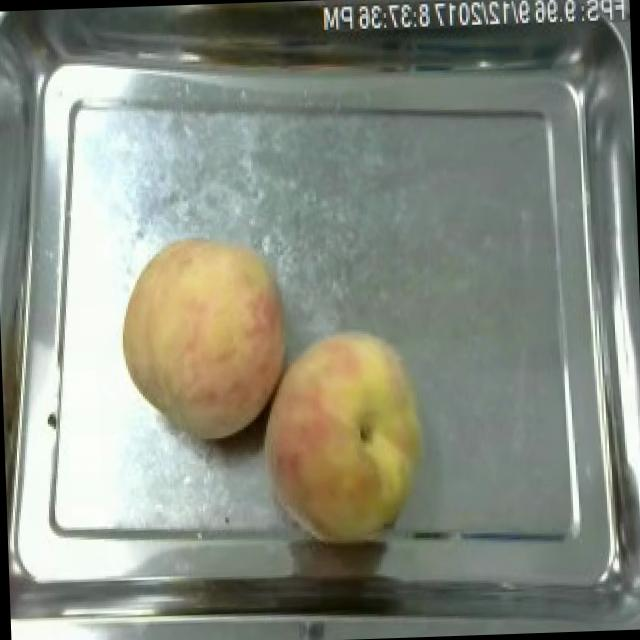Fruit: (107, 227, 302, 451), (250, 318, 438, 550)
